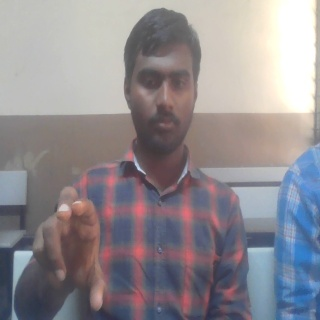Face: (121, 7, 202, 157)
No: (30, 184, 109, 314)
